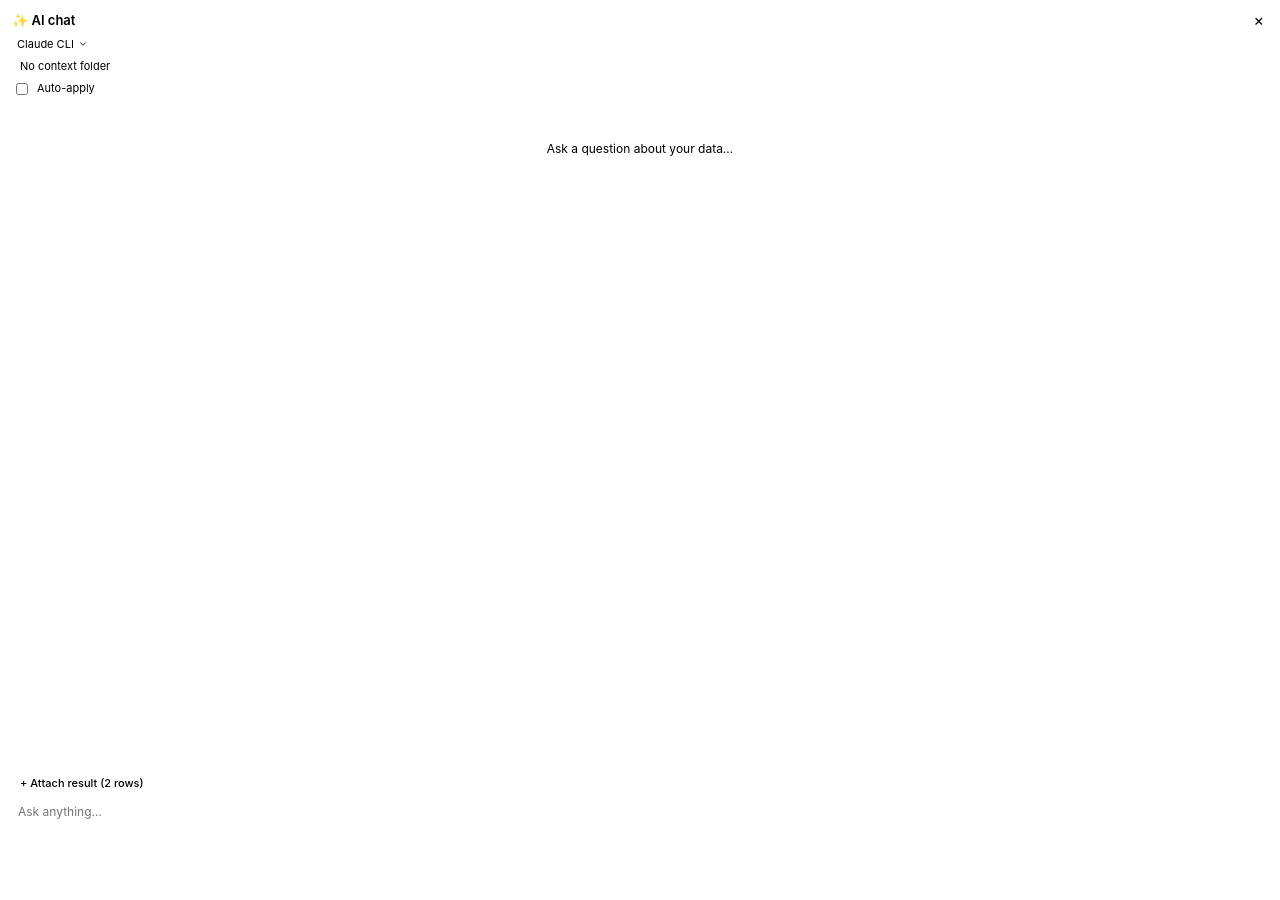
Scenario: ChatPanel — attachment UI › clicking attach button adds a chip
The width and height of the screenshot is (1280, 900).
Click the button with test id "btn-attach-result": x=82, y=783 10,775 -> 154,791
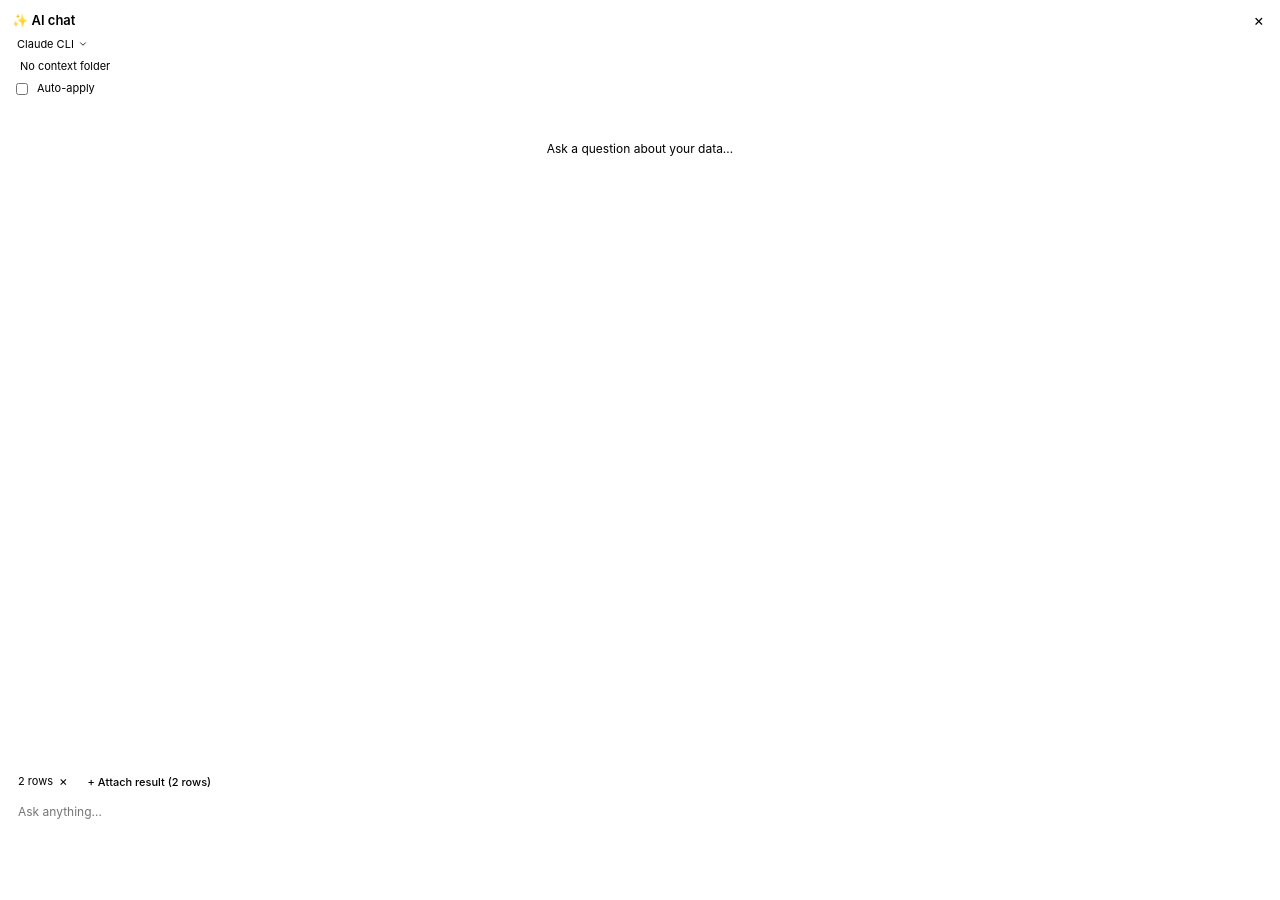
Now the element with test id "attachment-chip" is shown, box 18,774 -> 70,788
Now the text "2 rows" is shown, box 18,774 -> 53,790
